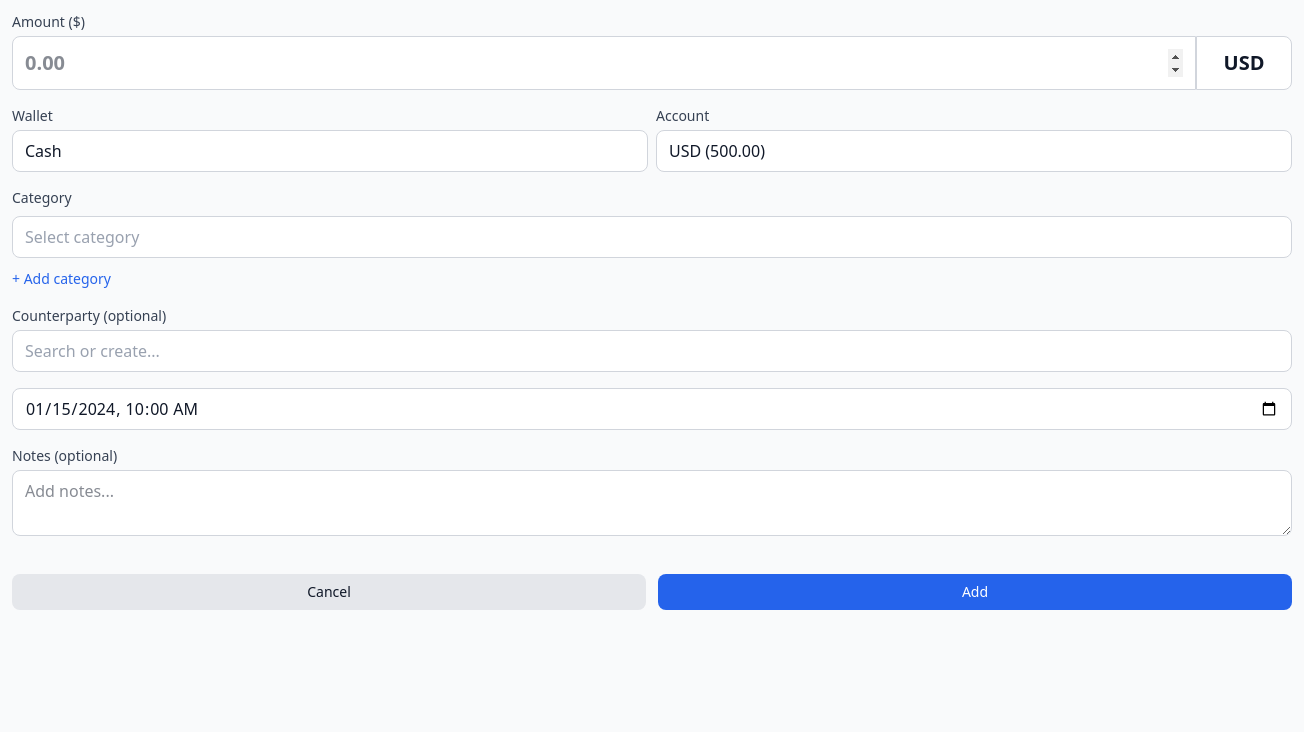
Test case: ExpenseTransactionForm › supports adding multiple categories
Click the button "+ Add category": click(62, 279) [12, 269, 111, 289]
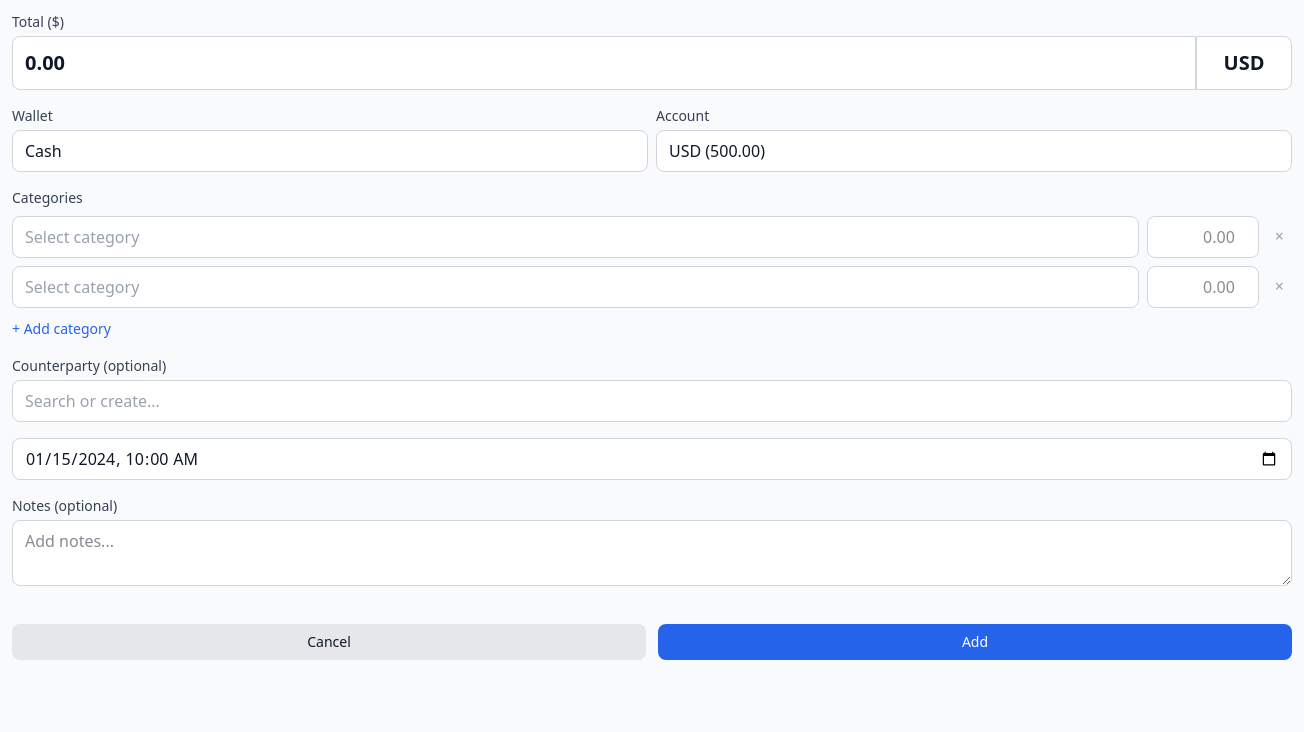
expect the number of dropdowns with placeholder "Select category" is 2: met, box [12, 216, 1139, 258]; [12, 266, 1139, 308]
